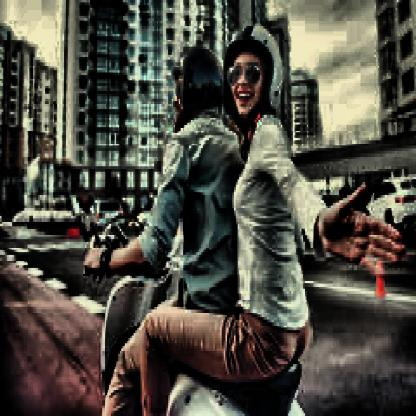wear: (228, 25, 279, 119), (174, 47, 224, 123)
